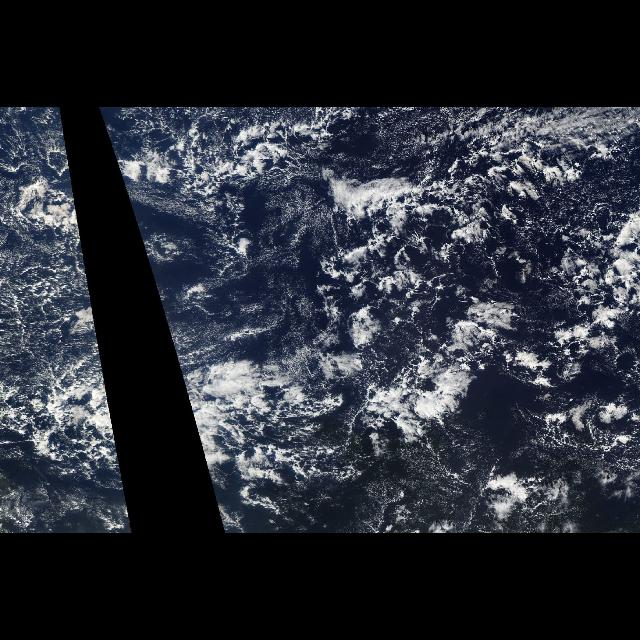Fish: (181, 376, 327, 488), (56, 376, 124, 488)
Flower: (341, 182, 577, 390)
Gravel: (229, 107, 639, 433)
Sugar: (245, 188, 323, 366)
